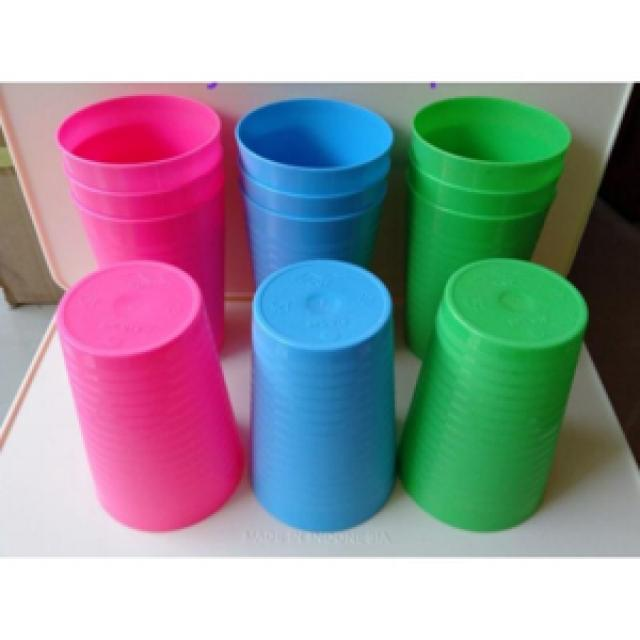plastic cup: (54, 260, 248, 536), (397, 256, 589, 533), (403, 94, 576, 365), (245, 254, 397, 535), (54, 92, 228, 286), (232, 94, 399, 286)
